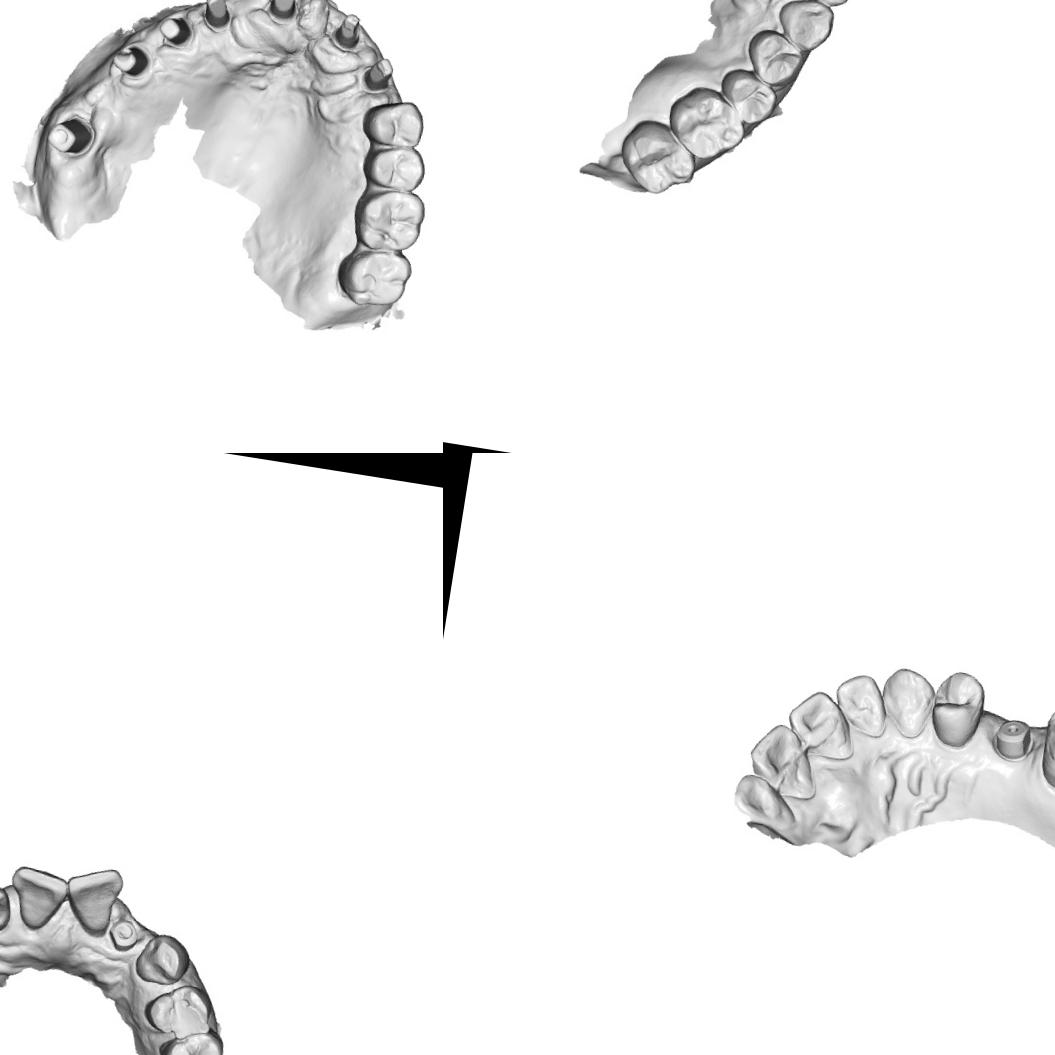abutment: (44, 110, 98, 162), (108, 40, 157, 84), (358, 53, 396, 96), (328, 9, 364, 53), (155, 14, 198, 50), (200, 0, 237, 34), (267, 0, 301, 27)
canine: (872, 663, 938, 742), (771, 0, 837, 56), (132, 929, 194, 988)
implant: (988, 714, 1038, 764), (105, 916, 141, 955)
incisor: (740, 718, 826, 806), (780, 685, 862, 765), (58, 860, 127, 938), (4, 863, 72, 934), (828, 668, 892, 740), (0, 881, 15, 934), (792, 0, 856, 12)
molar: (660, 80, 752, 168), (613, 114, 704, 201), (348, 182, 429, 258), (332, 242, 416, 312), (1032, 695, 1055, 801)
premolar: (924, 666, 990, 754), (140, 978, 216, 1044), (742, 25, 809, 92), (714, 64, 782, 128), (358, 94, 428, 151), (358, 138, 429, 194), (155, 1019, 229, 1055)
